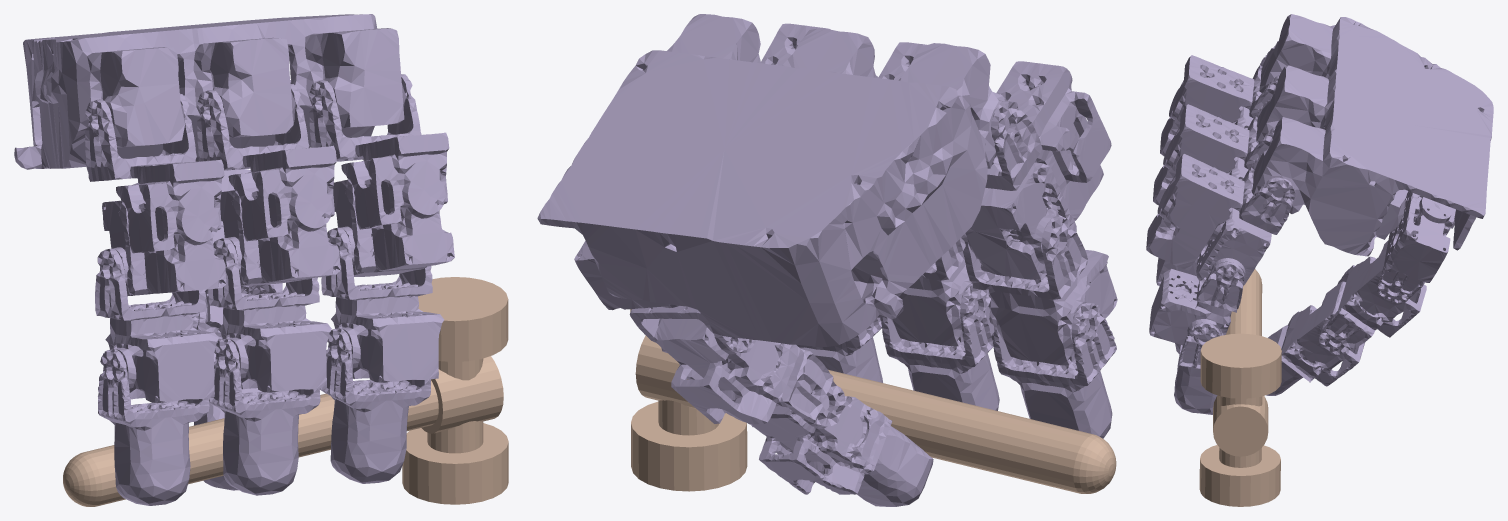
Rendered from case-07.glb.
3 views of the same model, side by side, from view 1: azimuth 30°, elevation 25°; view 2: azimuth 150°, elevation 25°; view 3: azimuth 270°, elevation 25° (orthographic). The views are drawn at different scales.
Visible parts, largest first — view 1: world, surface.obj; view 2: world, surface.obj; view 3: world, surface.obj.
Boxes of the visible parts, x1,y1,x2,y2 form: world: [14, 14, 454, 505]; surface.obj: [63, 277, 508, 506]; world: [537, 14, 1117, 506]; surface.obj: [630, 309, 1116, 493]; world: [1146, 14, 1493, 414]; surface.obj: [1199, 269, 1281, 506].
Bounding box in the file's own units: 0.179 × 0.189 × 0.163.
